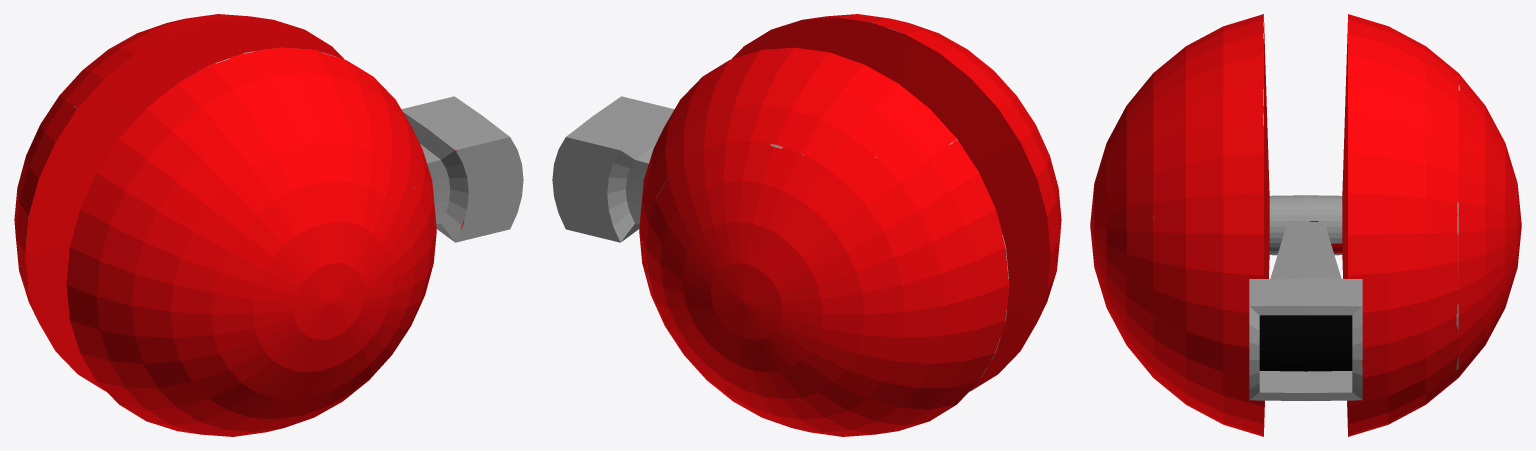
File: turret2.fbx
3 views of the same model, side by side, from view 1: azimuth 30°, elevation 25°; view 2: azimuth 150°, elevation 25°; view 3: azimuth 270°, elevation 25° (orthographic).
Visible parts, largest first — view 1: Sphere; view 2: Sphere; view 3: Sphere.
Boxes of the visible parts, x1=… form: Sphere: x1=14, y1=14, x2=523, y2=436; Sphere: x1=552, y1=14, x2=1061, y2=436; Sphere: x1=1090, y1=14, x2=1521, y2=436.
Size of the model in its own units: 245 by 196 by 200.
1 material, 1 textured.
